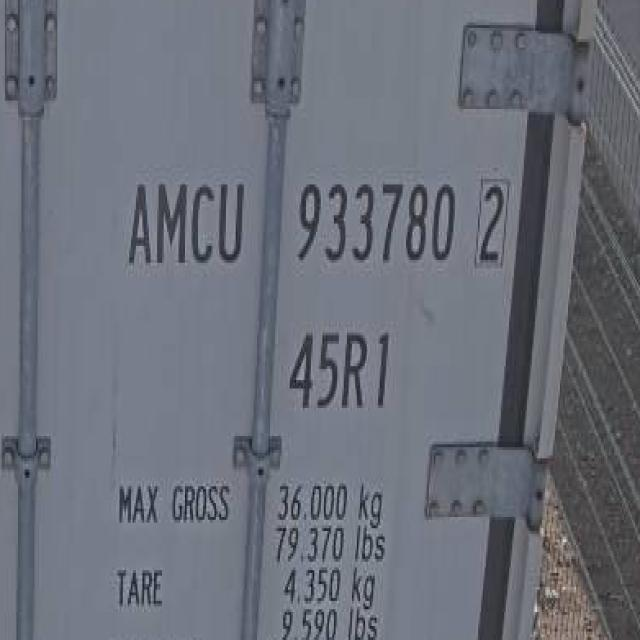dv: (472, 171, 513, 274)
owner: (118, 170, 248, 276)
serial: (291, 172, 460, 277)
size: (281, 319, 400, 423)
